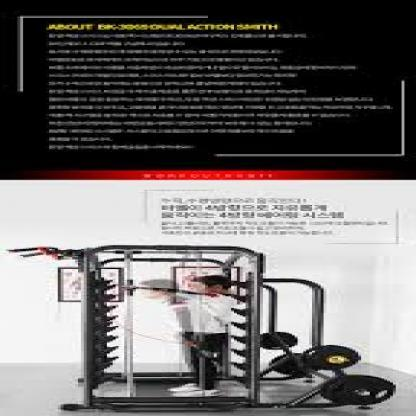smith machine: (10, 243, 394, 414)
